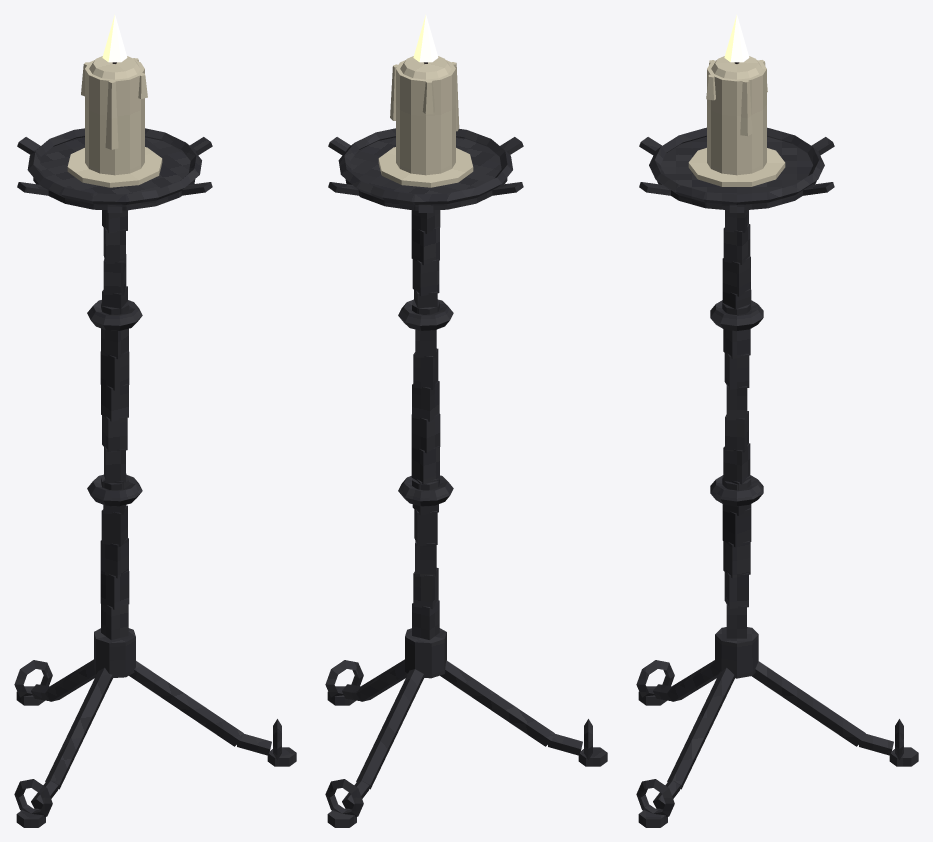
Rendered from candle_stand.glb.
The picture shows the model from 3 angles, left to right: view 1: azimuth 30°, elevation 25°; view 2: azimuth 150°, elevation 25°; view 3: azimuth 270°, elevation 25°; orthographic projection.
Visible parts, largest first — view 1: body, lamp_on; view 2: body, lamp_on; view 3: body, lamp_on.
Boxes of the visible parts, x1,y1,x2,y2 form: body: (14,56,296,827); lamp_on: (102,14,127,62); body: (325,56,607,827); lamp_on: (413,14,438,62); body: (636,56,918,827); lamp_on: (724,14,749,62).
Bounding box in the file's own units: 0.6506 × 1.7 × 0.5834.
Materials: 5 (3 with a texture image).
